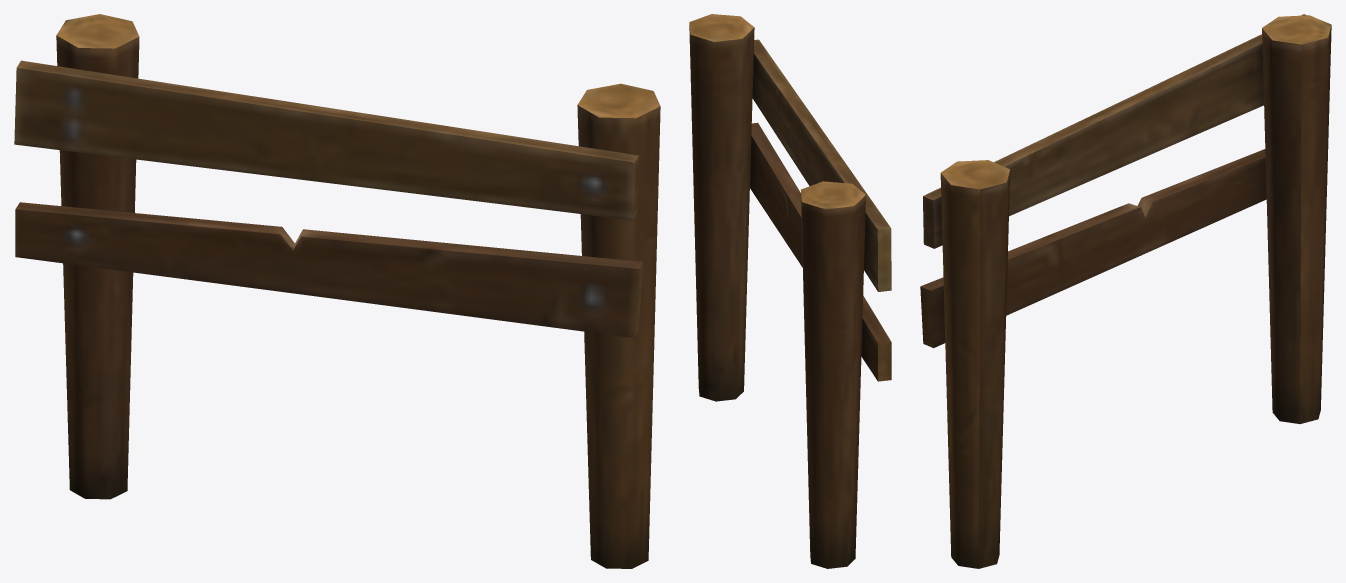
Rendered from Fence1.fbx.
3 views of the same model, side by side, from view 1: azimuth 30°, elevation 25°; view 2: azimuth 150°, elevation 25°; view 3: azimuth 270°, elevation 25° (orthographic). The views are drawn at different scales.
Parts seen in each view (by area): view 1: Fence1; view 2: Fence1; view 3: Fence1.
Part boxes in pixels (left/top/right/bottom): Fence1: left=14, top=14, right=660, bottom=568; Fence1: left=689, top=14, right=891, bottom=568; Fence1: left=920, top=14, right=1331, bottom=568.
Size of the model in its own units: 138 by 138 by 131.
1 material, 1 textured.
